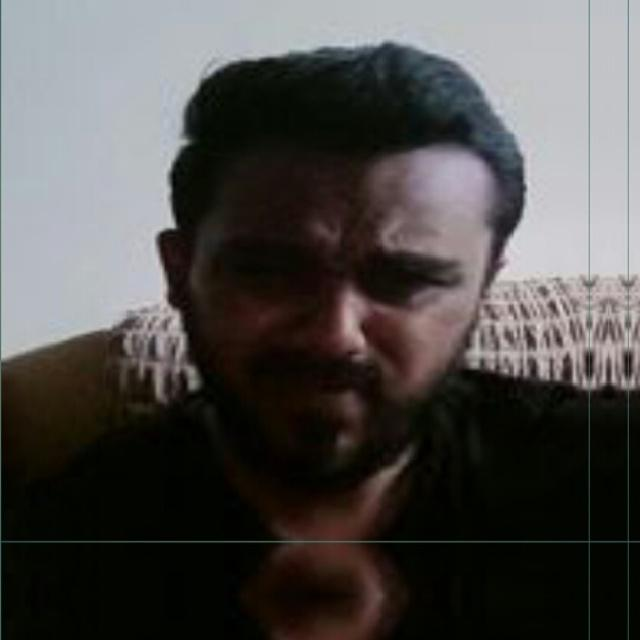Disgust: (144, 106, 498, 516)
